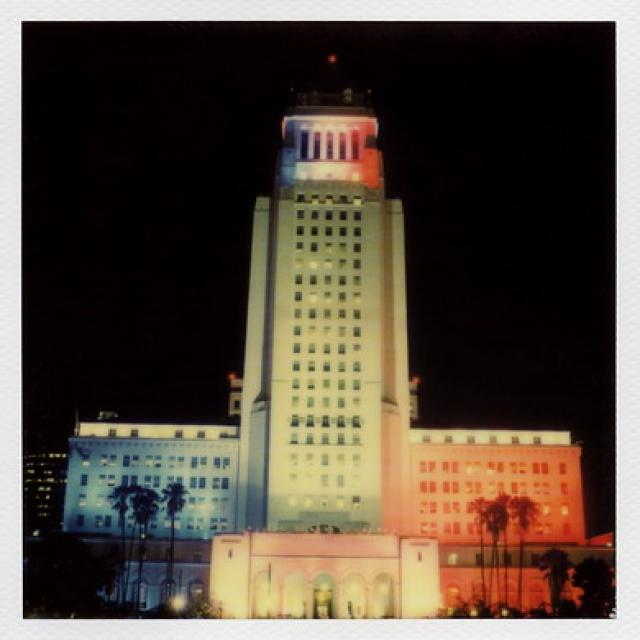Normal_building: (234, 96, 416, 547)
